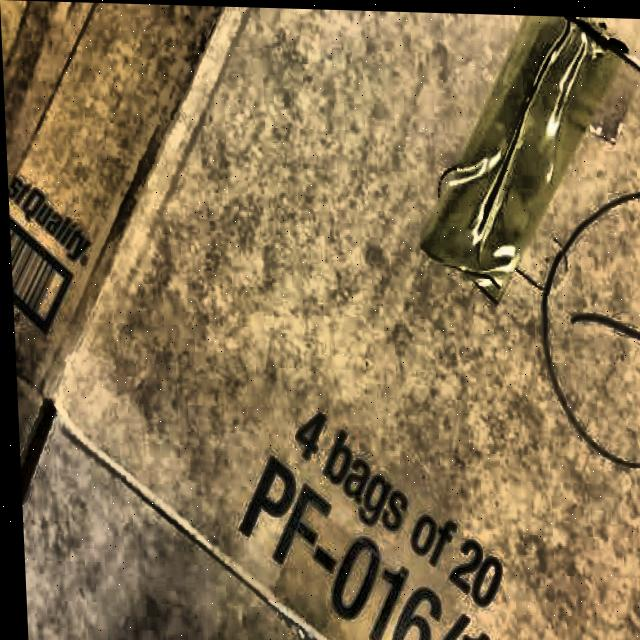cardboard: (1, 0, 640, 640)
